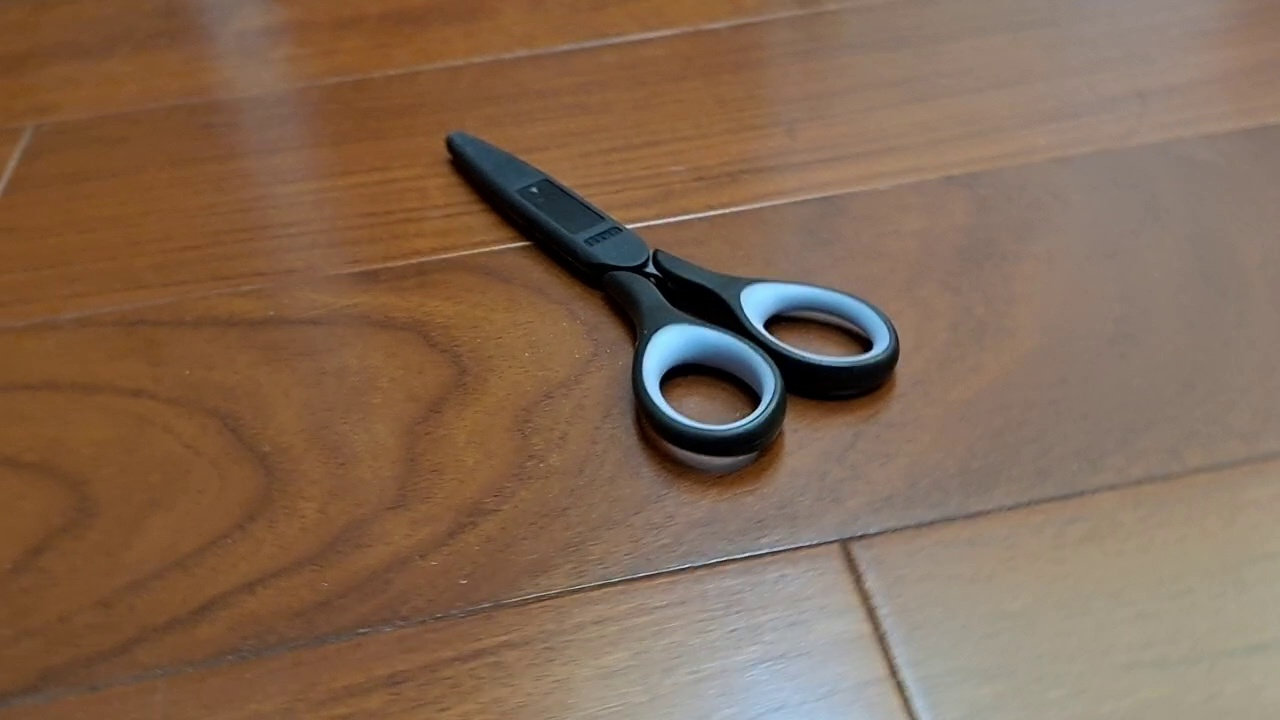scissors: (443, 130, 900, 458)
